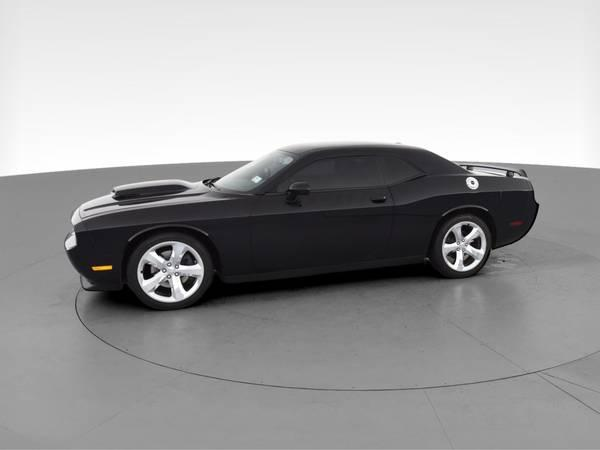Front_Bumper: (66, 232, 124, 290)
Front_Fender: (74, 196, 257, 281)
Front_Left_Door: (251, 188, 394, 281)
Front_Left_Window: (266, 155, 389, 194)
Front_Windshield: (211, 151, 295, 192)
Hood: (72, 177, 247, 226)
Rear_Bumper: (494, 200, 539, 248)
Rear_Fender: (379, 154, 536, 266)
Roof: (249, 141, 468, 194)
Wheel: (127, 231, 213, 309), (435, 211, 494, 274)
